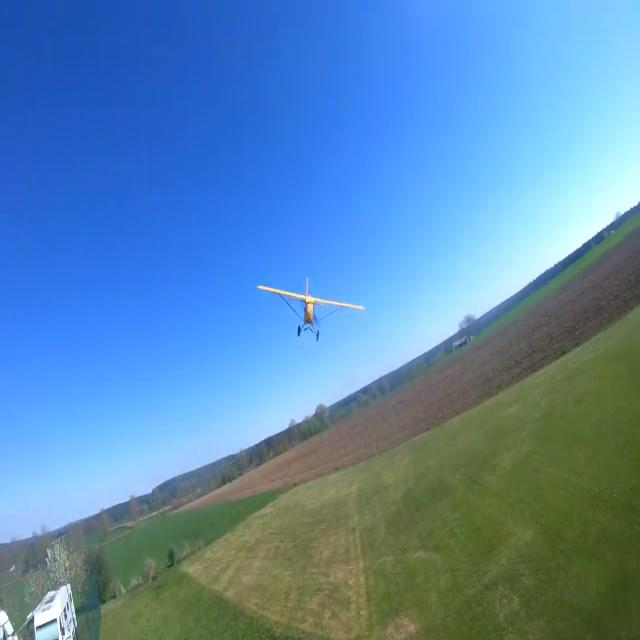iha: (288, 309, 336, 311)
